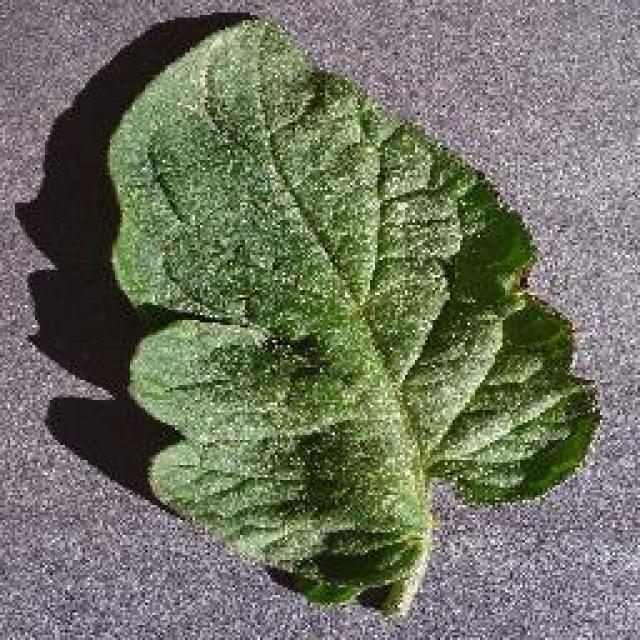Tomato healthy leaf: (101, 16, 604, 592)
